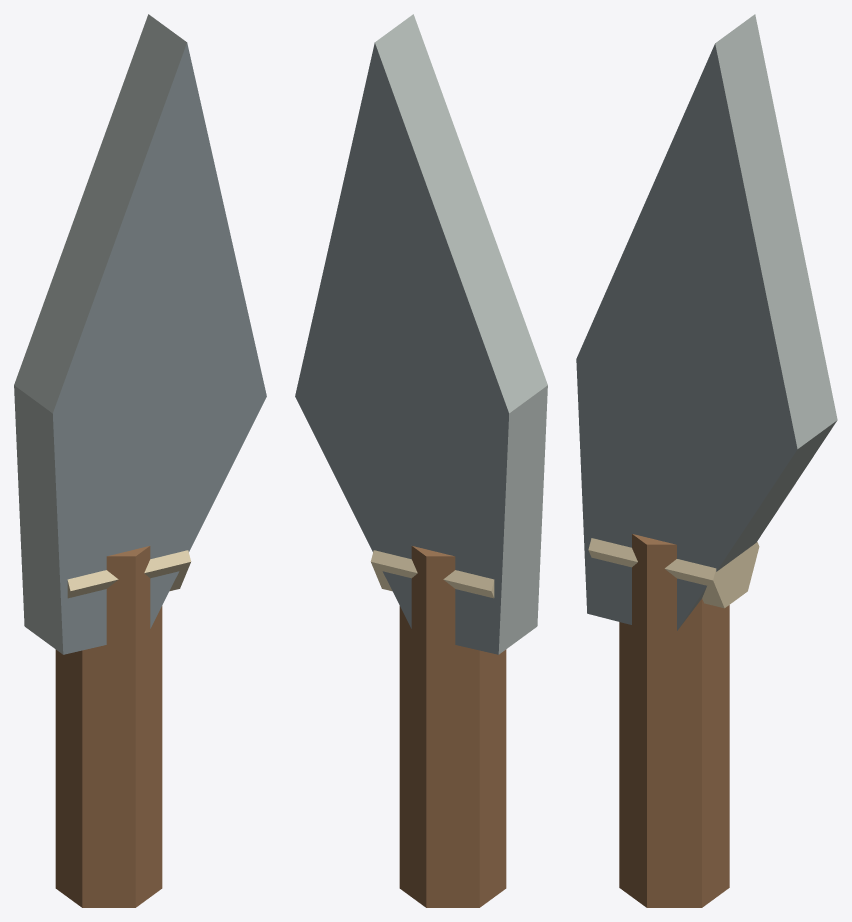
Rendered from dirk.glb.
3 renders of one model, left to right at view 1: azimuth 30°, elevation 25°; view 2: azimuth 150°, elevation 25°; view 3: azimuth 330°, elevation 25°, orthographic. The views are drawn at different scales.
Visible parts, largest first — view 1: dirk; view 2: dirk; view 3: dirk.
Boxes of the visible parts, box(x1,y1,x2,y2) form: dirk: box(14, 14, 266, 907); dirk: box(295, 14, 547, 907); dirk: box(576, 14, 837, 907).
Bounding box in the file's own units: 0.204 × 0.77 × 0.088.
